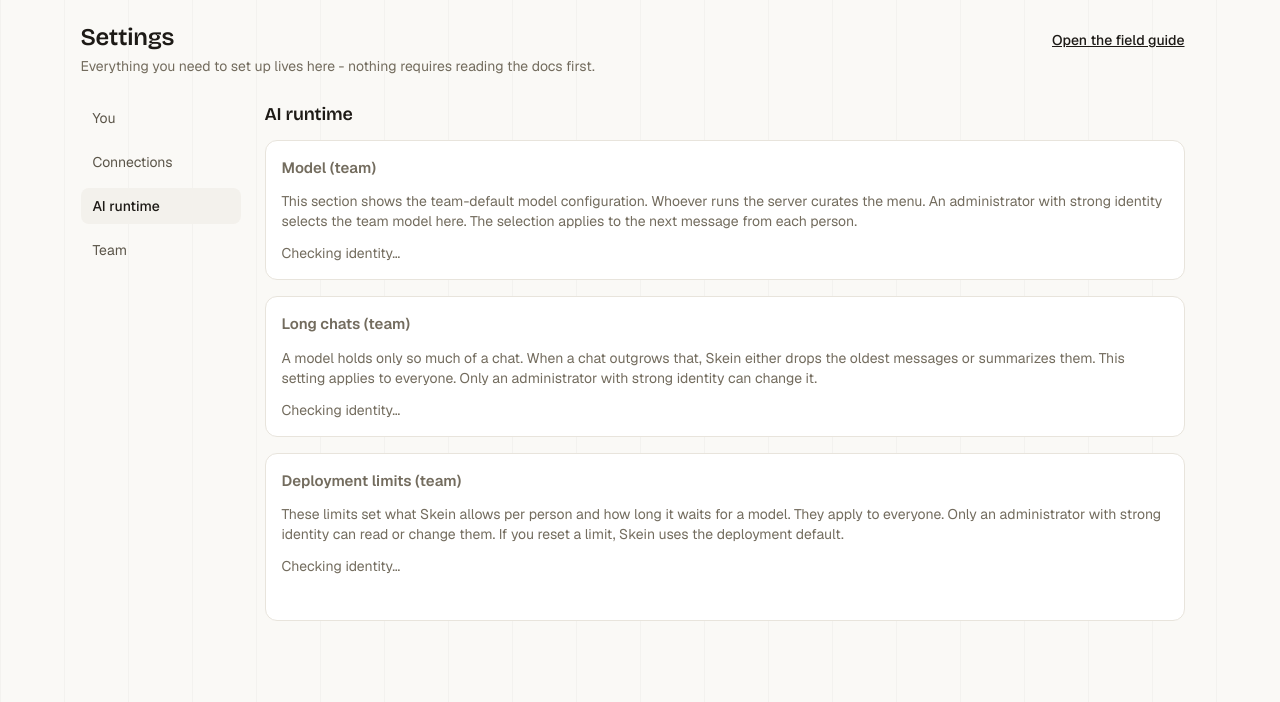
Test: the model section › announces a clear after the stale picker no longer needs controls
Click the link "AI runtime" at {"x": 160, "y": 206}, box [80,188,240,224]
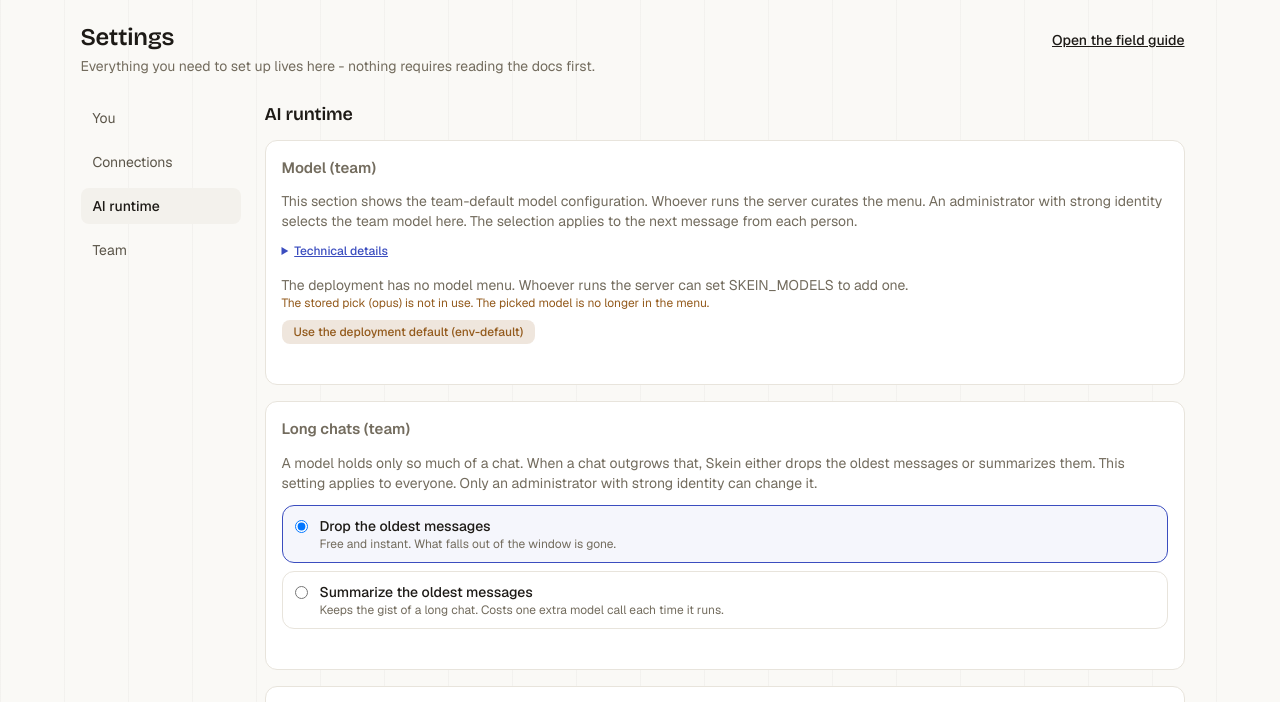
Click the button "Use the deployment default (env-default)" at {"x": 408, "y": 332}, box [282,320,535,344]
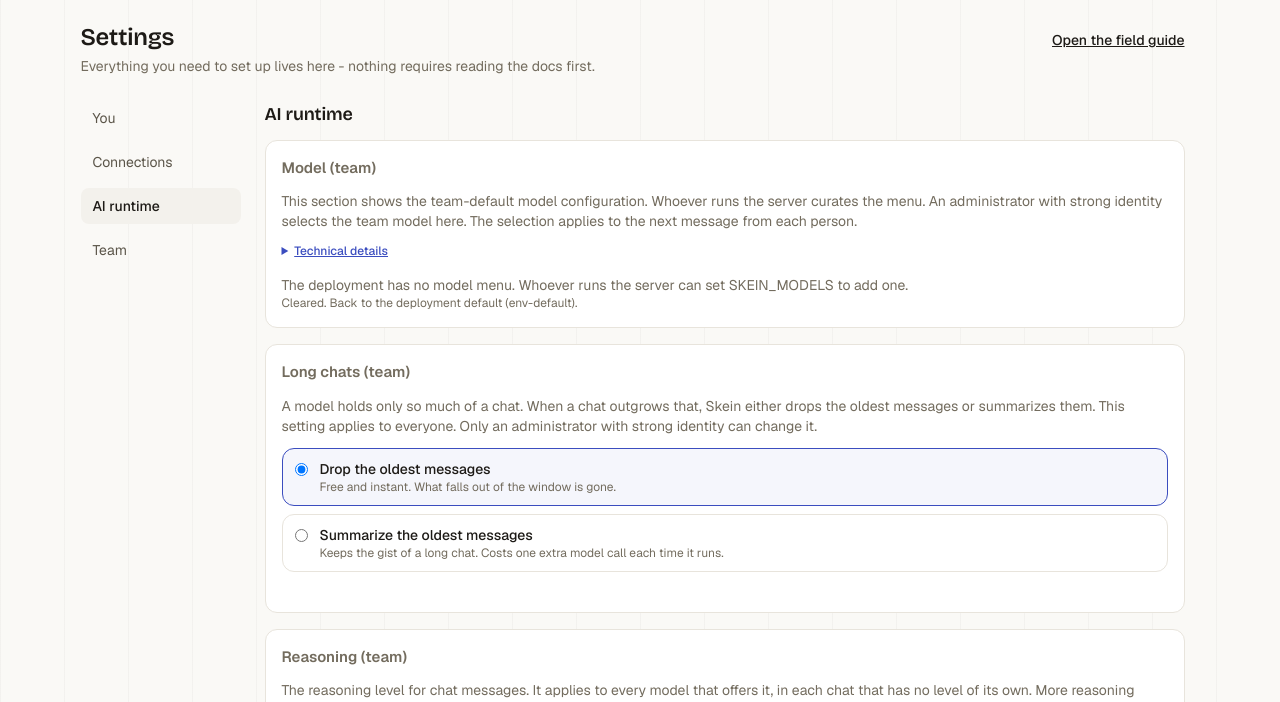
Expected: the text "Cleared. Back to the deployment default (env-default)." is shown, [282,295,577,311]
